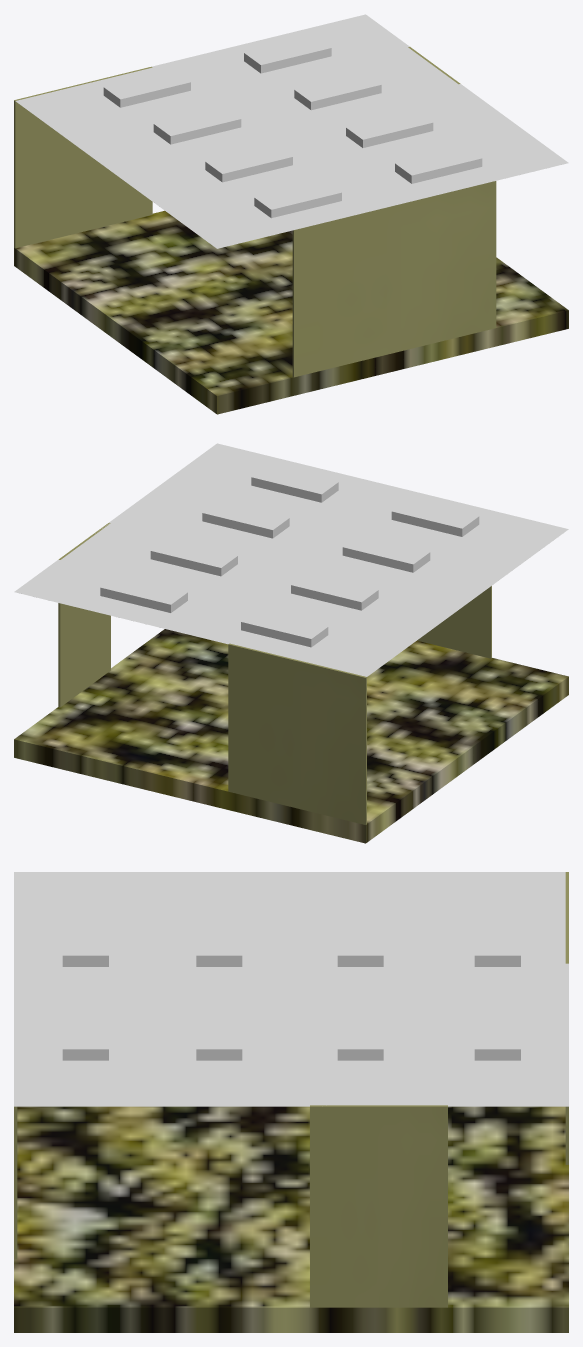
The model's file is BackroomsLevelZero - 13.fbx.
The picture shows the model from 3 angles, top to bottom: view 1: azimuth 30°, elevation 25°; view 2: azimuth 150°, elevation 25°; view 3: azimuth 270°, elevation 25°; orthographic projection. The views are drawn at different scales.
Parts seen in each view (by area): view 1: Floor.033, Floor.006, Wall.017, Wall.019, Cube.188, Cube.187, Cube.190, Cube.191, Cube.193, Cube.189, Cube.192, Cube.194; view 2: Floor.033, Floor.006, Wall.019, Wall.018, Wall.017, Cube.193, Cube.189, Cube.192, Cube.188, Cube.190, Cube.191, Cube.187 (+1 smaller); view 3: Floor.033, Floor.006, Wall.018, Cube.190, Cube.191, Cube.192, Cube.194, Cube.187, Cube.188, Cube.189, Cube.193, Wall.017 (+1 smaller).
Part boxes in pixels (x1,y1,x2,y2): Floor.033: (15, 14, 568, 248); Floor.006: (14, 210, 568, 414); Wall.017: (292, 181, 496, 377); Wall.019: (14, 66, 152, 248); Cube.188: (153, 106, 241, 144); Cube.187: (103, 70, 190, 107); Cube.190: (244, 35, 331, 73); Cube.191: (294, 72, 381, 110); Cube.193: (254, 180, 341, 218); Cube.189: (205, 144, 292, 182); Cube.192: (346, 110, 433, 147); Cube.194: (395, 146, 482, 183); Floor.033: (14, 443, 568, 676); Floor.006: (14, 629, 568, 843); Wall.019: (228, 643, 366, 824); Wall.018: (58, 522, 110, 707); Wall.017: (417, 586, 491, 658); Cube.193: (391, 499, 479, 536); Cube.189: (342, 535, 430, 572); Cube.192: (202, 500, 289, 538); Cube.188: (291, 573, 378, 610); Cube.190: (100, 575, 187, 612); Cube.191: (150, 538, 237, 576); Cube.187: (241, 609, 328, 647); Floor.033: (14, 872, 568, 1106); Floor.006: (14, 1106, 568, 1332); Wall.018: (310, 1105, 447, 1307); Cube.190: (474, 1002, 520, 1060); Cube.191: (337, 1002, 383, 1060); Cube.192: (196, 1002, 242, 1060); Cube.194: (62, 1002, 108, 1060); Cube.187: (474, 908, 520, 966); Cube.188: (337, 908, 383, 966); Cube.189: (196, 908, 242, 966); Cube.193: (62, 908, 108, 966); Wall.017: (14, 1106, 17, 1259).
Size of the model in its own units: 2000 by 946 by 2000.
